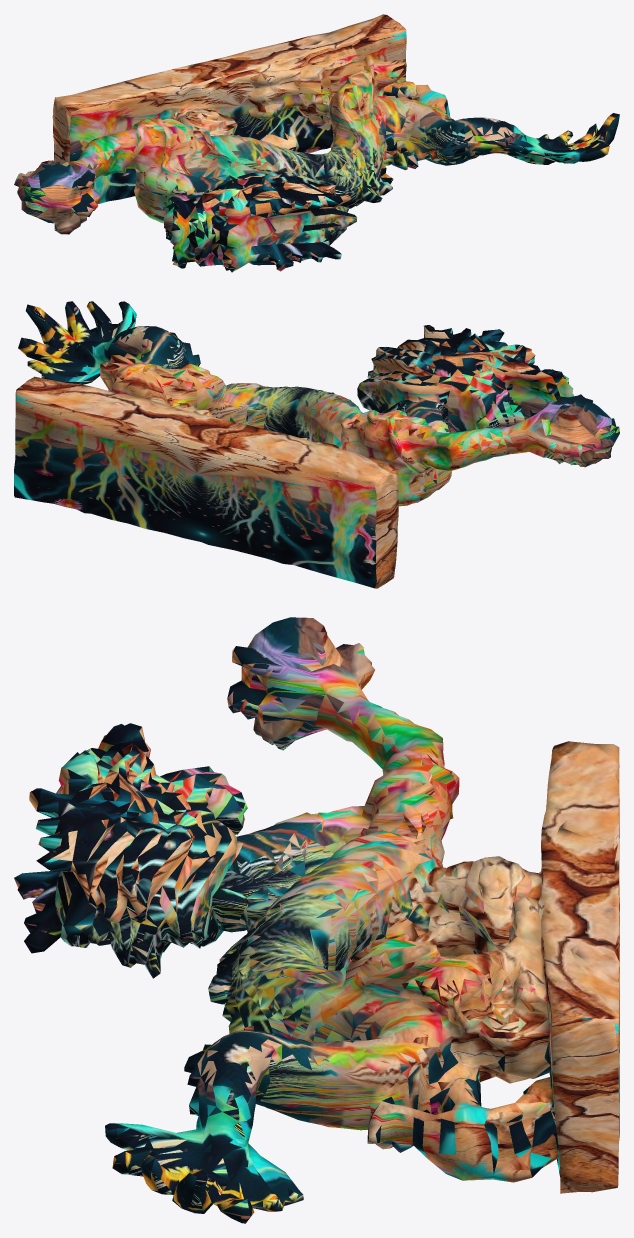
The model's file is tds_dragon-2.glb.
3 views of the same model, one above another, from view 1: azimuth 30°, elevation 25°; view 2: azimuth 150°, elevation 25°; view 3: azimuth 270°, elevation 25° (orthographic). The views are drawn at different scales.
Parts seen in each view (by area): view 1: A; view 2: A; view 3: A.
Boxes of the visible parts, bbox=[...] form: A: bbox=[14, 14, 619, 272]; A: bbox=[14, 301, 619, 588]; A: bbox=[14, 617, 619, 1223].
Size of the model in its own units: 2 by 0.433 by 1.08.
Materials: 1 (1 with a texture image).
